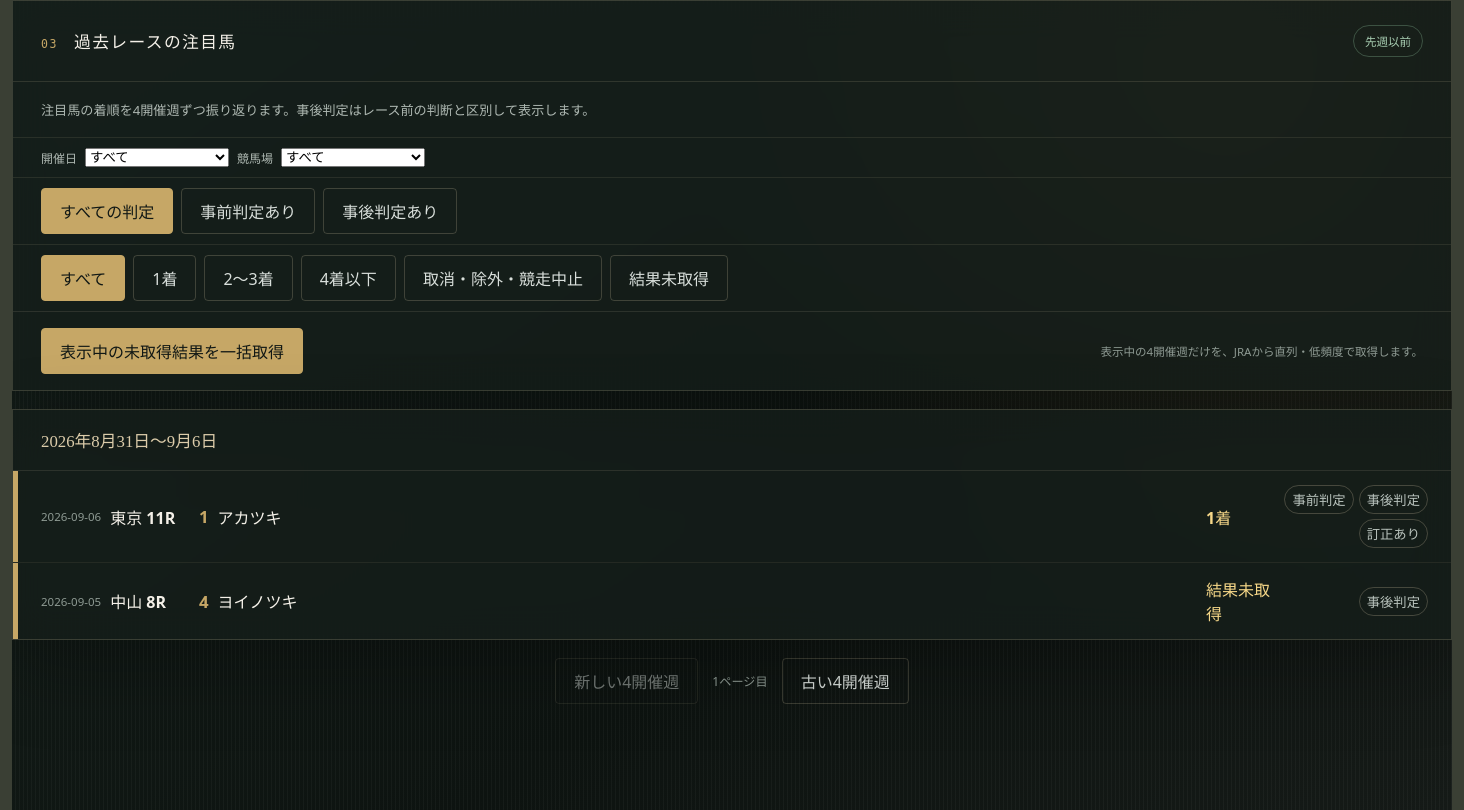
Scenario: shows past attention horses, filters the current page, and pages by four meeting weeks
This screenshot has width=1464, height=810.
Expected: the button "2026-09-06 東京 11R 1 アカツキ 1着 事前判定 事後判定 訂正あり" is shown, [13,471,1451,562]
Click the button "結果未取得". click: (669, 278)
box: [610,255,728,301]
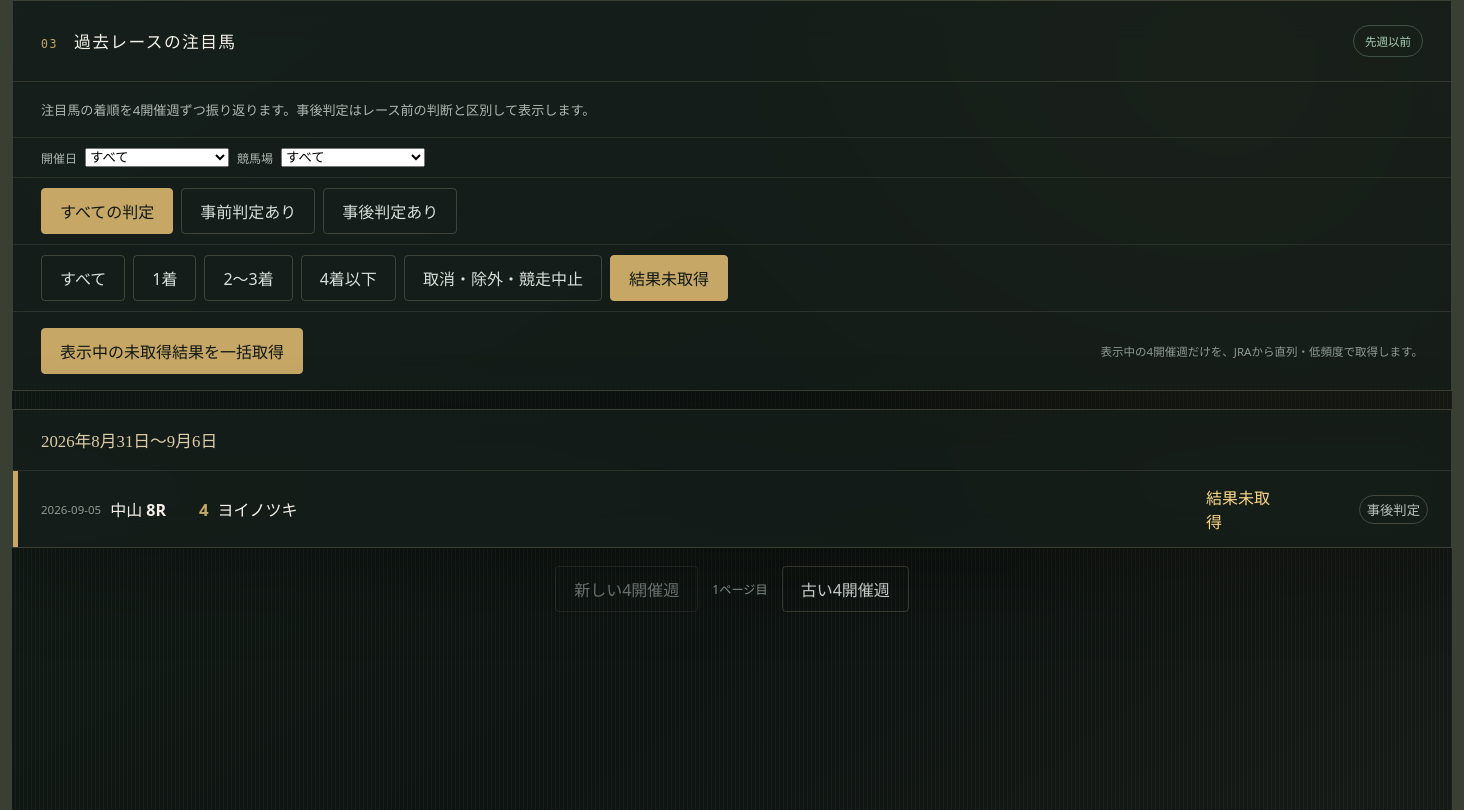
Expected: the button "2026-09-05 中山 8R 4 ヨイノツキ 結果未取得 事後判定" is shown, [13,471,1451,547]
Now the button "アカツキ" is gone
Click the button "すべて". click: (83, 278)
box: [41,255,125,301]
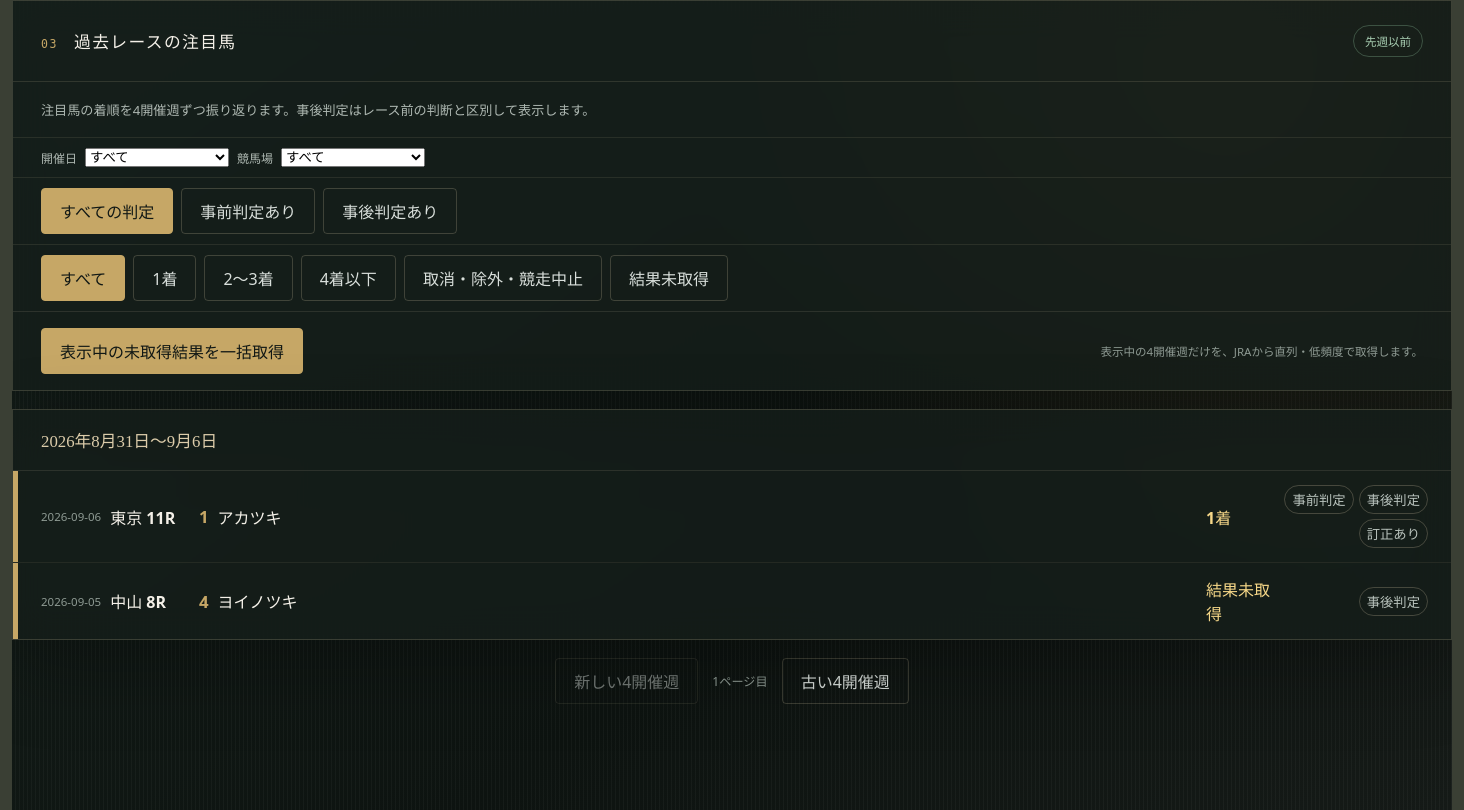
Select "2026-09-06" in the dropdown labelled "開催日". click: (157, 158)
box: [85,148,229,167]
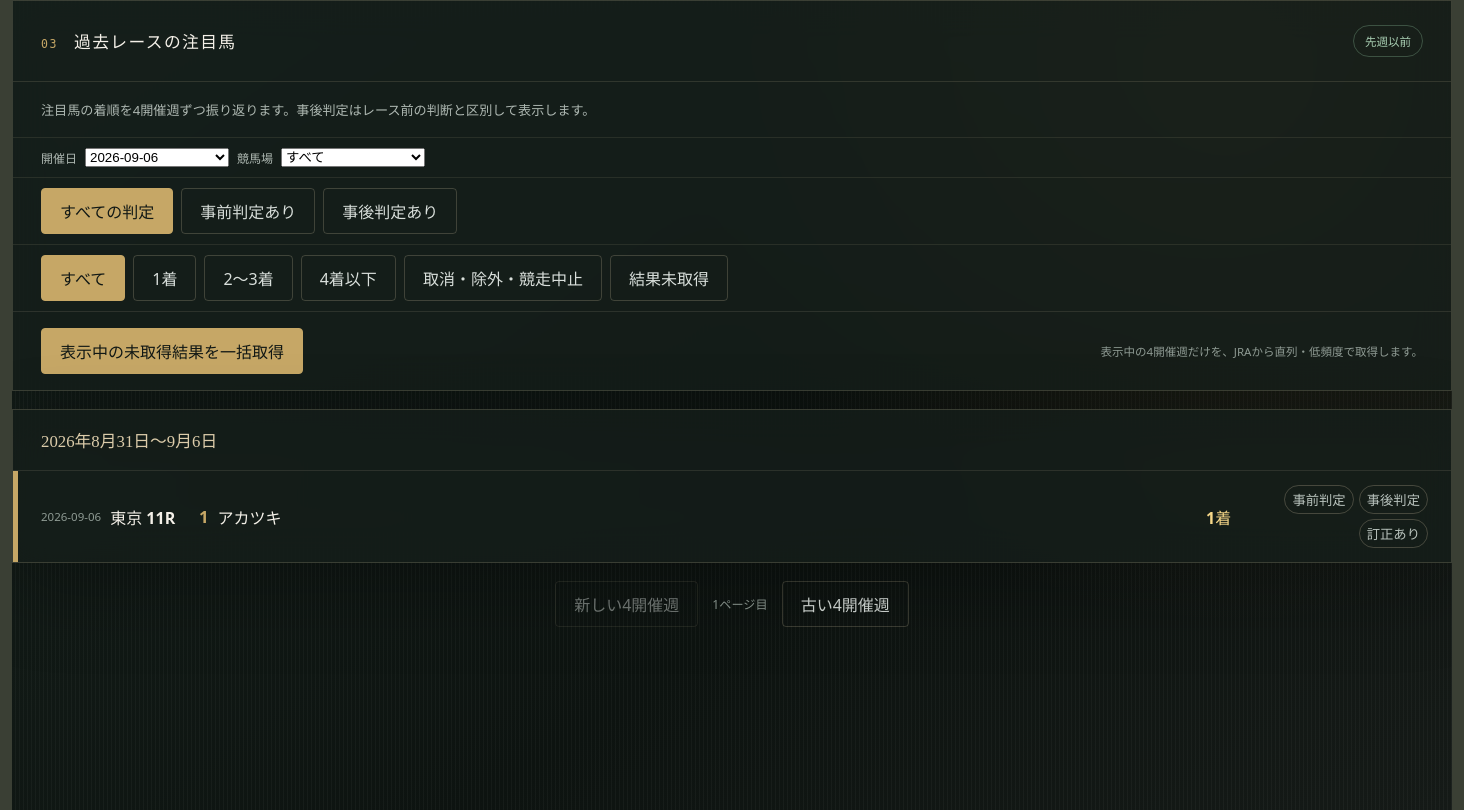
Click the button "古い4開催週". click: (845, 604)
box: [782,581,909,627]
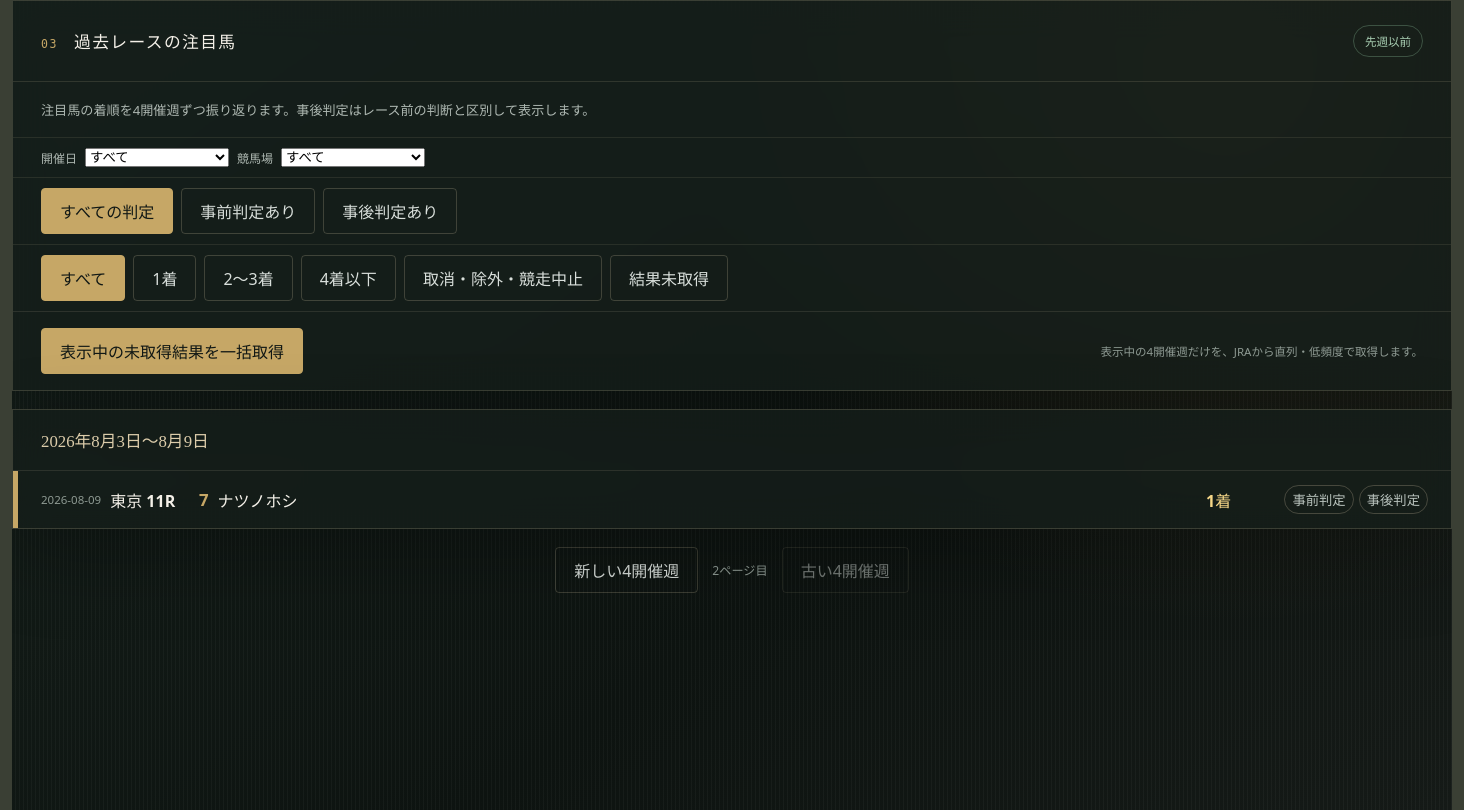
Expected: the button "新しい4開催週" is shown, [555,547,698,593]
Now the button "2026-08-09 東京 11R 7 ナツノホシ 1着 事前判定 事後判定" is shown, box [13,471,1451,528]
